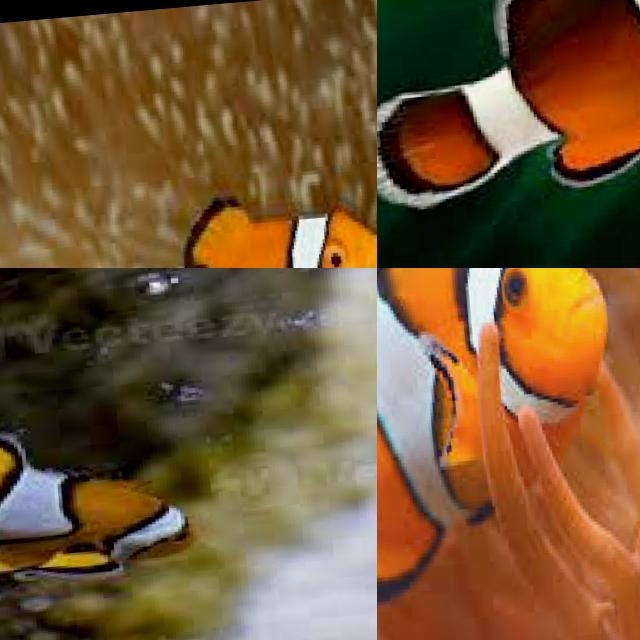Amphiprion-percula: (377, 268, 640, 640), (0, 310, 268, 640), (377, 0, 640, 268), (0, 147, 377, 268)
